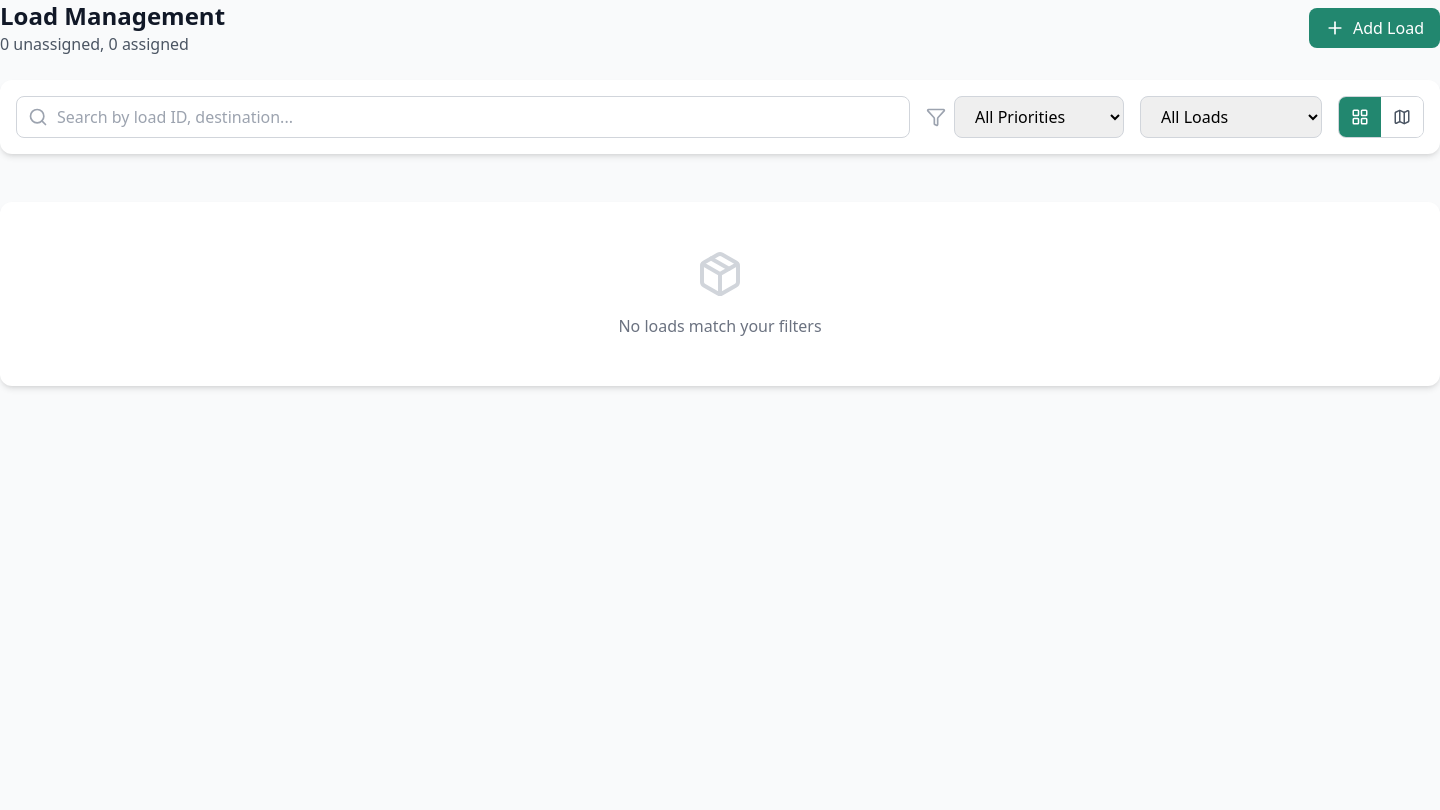
it: LoadList › add load modal › should enable Add Load button when destination is provided
The width and height of the screenshot is (1440, 810).
Click the button "Add Load" at point(1374, 28), box [1309, 8, 1439, 48]
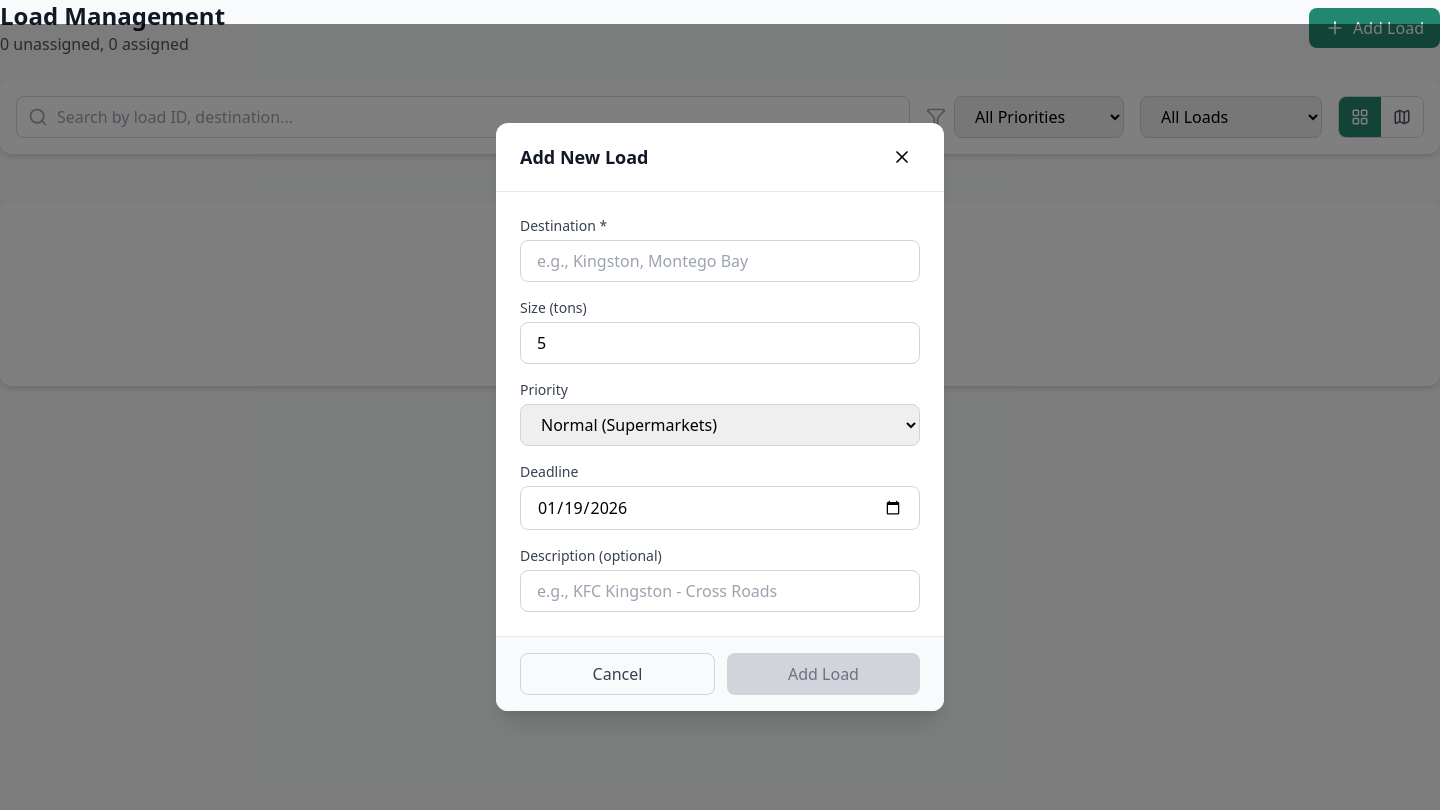
Type "Kingston" into the field with placeholder "e.g., Kingston, Montego Bay" at point(720, 261), box [520, 240, 920, 282]
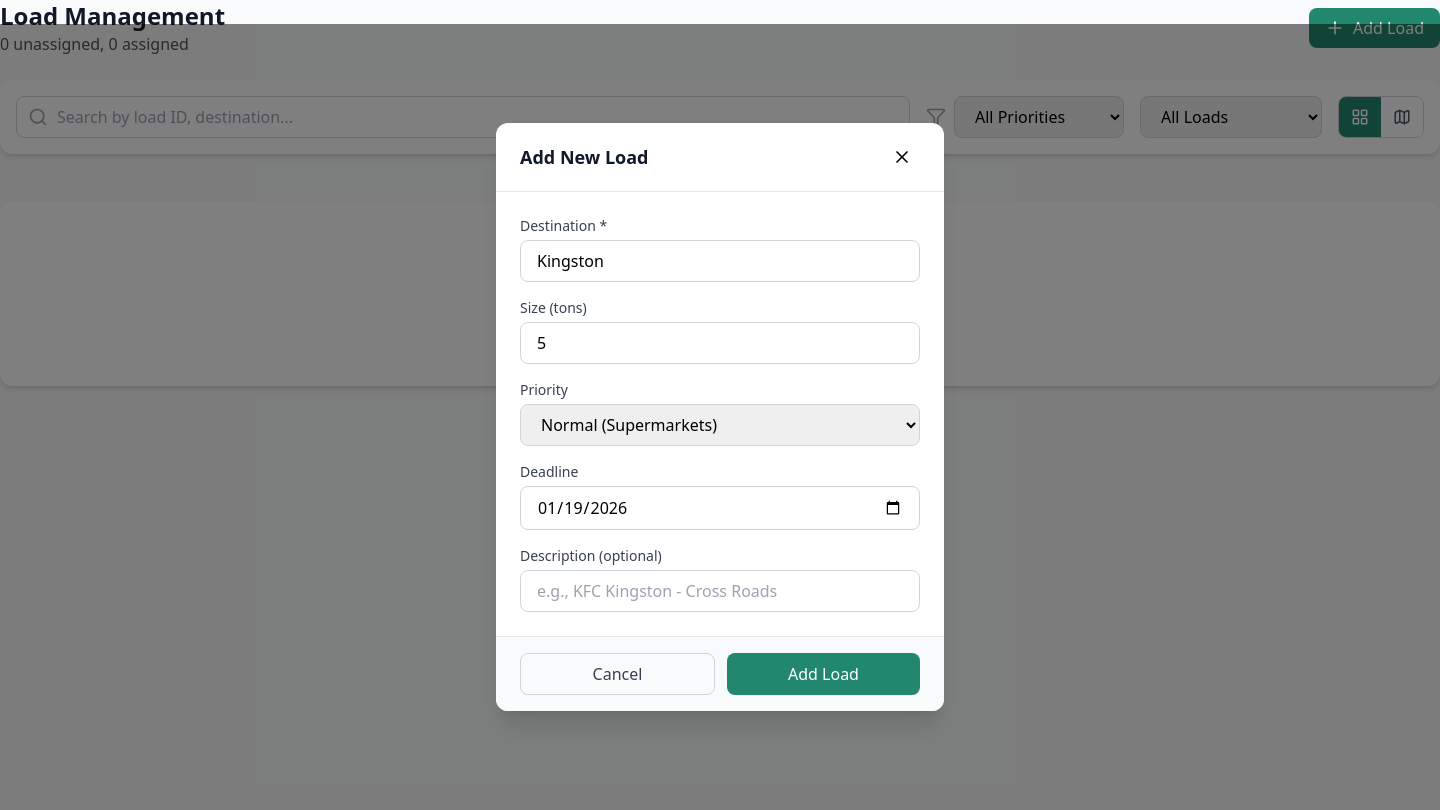
expect the button "Add Load" is enabled: met, box [727, 653, 920, 695]
